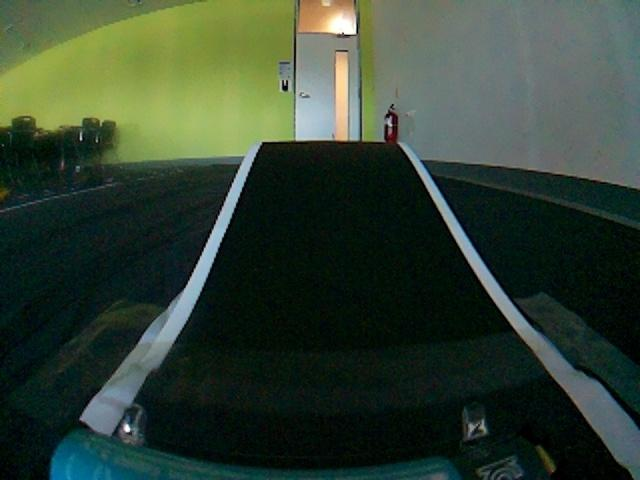hill_up: (73, 143, 625, 479)
